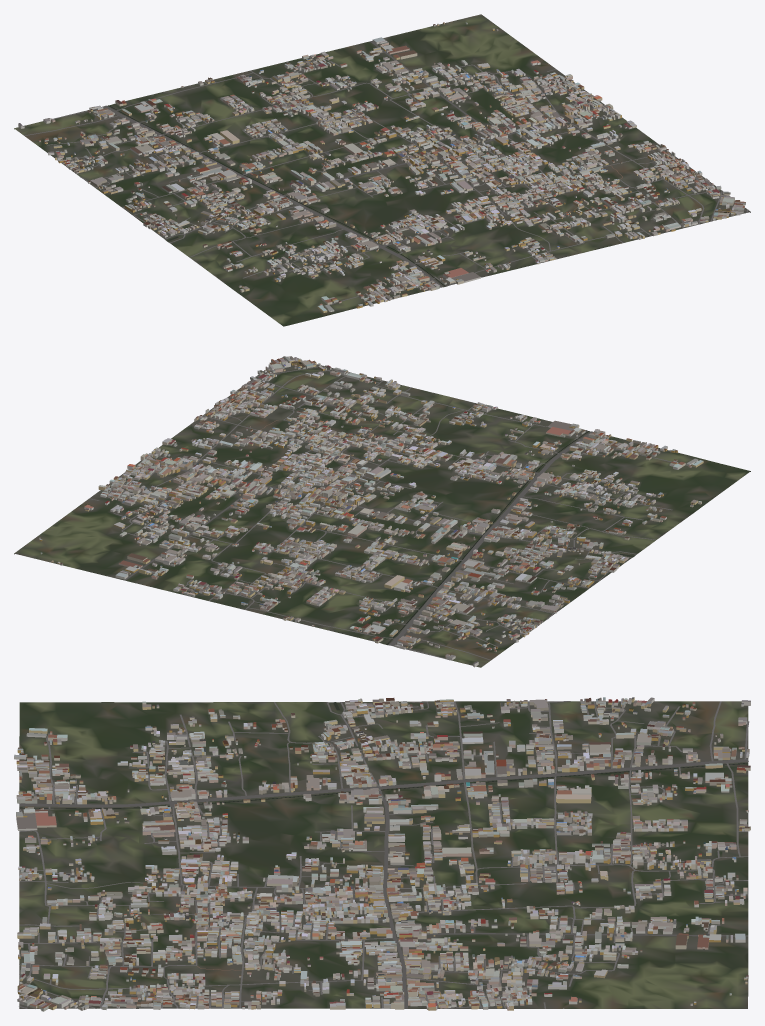
The picture shows the model from 3 angles, top to bottom: view 1: azimuth 30°, elevation 25°; view 2: azimuth 150°, elevation 25°; view 3: azimuth 270°, elevation 25°; orthographic projection. The views are drawn at different scales.
Visible parts, largest first — view 1: ground, buildings, roads; view 2: ground, buildings, roads; view 3: ground, buildings, roads, water.
Part boxes in pixels (x1=…): ground: x1=14, y1=14, x2=750, y2=326; buildings: x1=18, y1=22, x2=745, y2=312; roads: x1=24, y1=41, x2=748, y2=306; ground: x1=14, y1=356, x2=750, y2=667; buildings: x1=39, y1=356, x2=703, y2=667; roads: x1=82, y1=357, x2=688, y2=660; ground: x1=19, y1=701, x2=748, y2=1008; buildings: x1=14, y1=697, x2=750, y2=1011; roads: x1=19, y1=701, x2=749, y2=1008; water: x1=19, y1=702, x2=747, y2=808.
Size of the model in its own units: 1417 by 20.87 by 1416.
